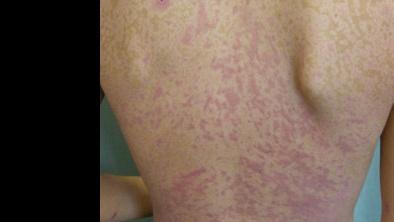SJS-TEN: (100, 0, 393, 221)
